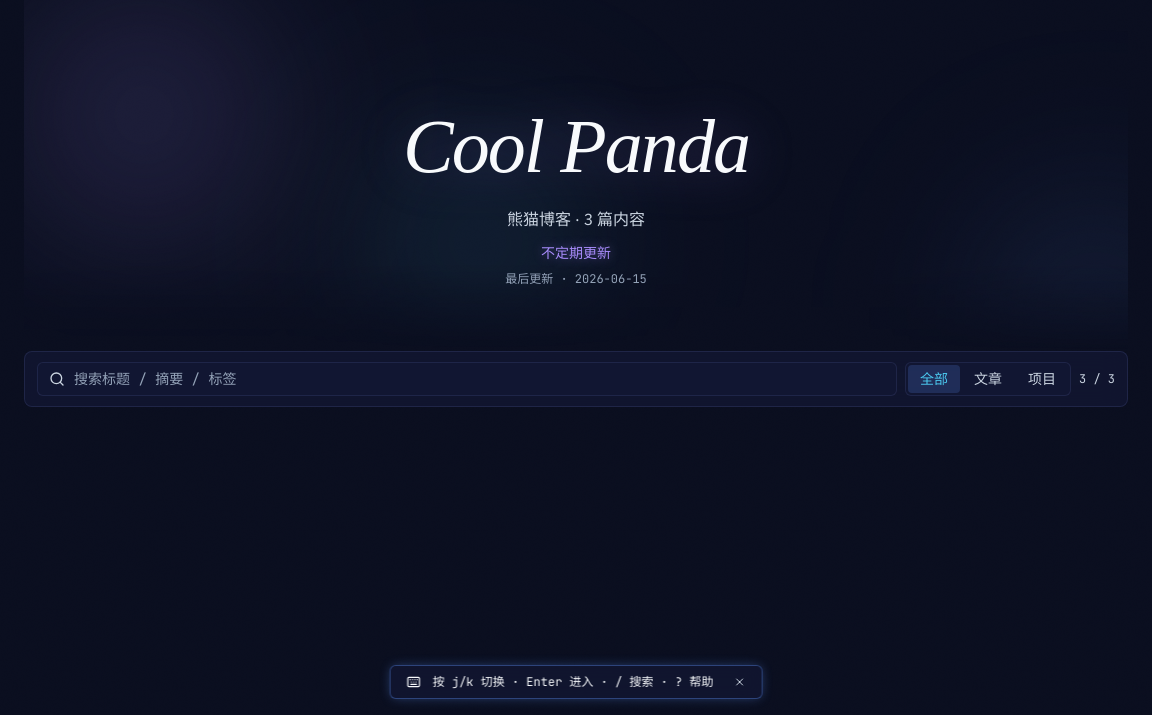
Test: Home 搜索过滤（与分类正交） › 过滤到 0 → 清空 → 焦点自动回到第一张卡片（08-17 F4）
The width and height of the screenshot is (1152, 715).
Type "xyz不存在" into the search field with placeholder "搜索标题 / 摘要 / 标签" at coordinates (467, 379), box [37, 362, 897, 396]
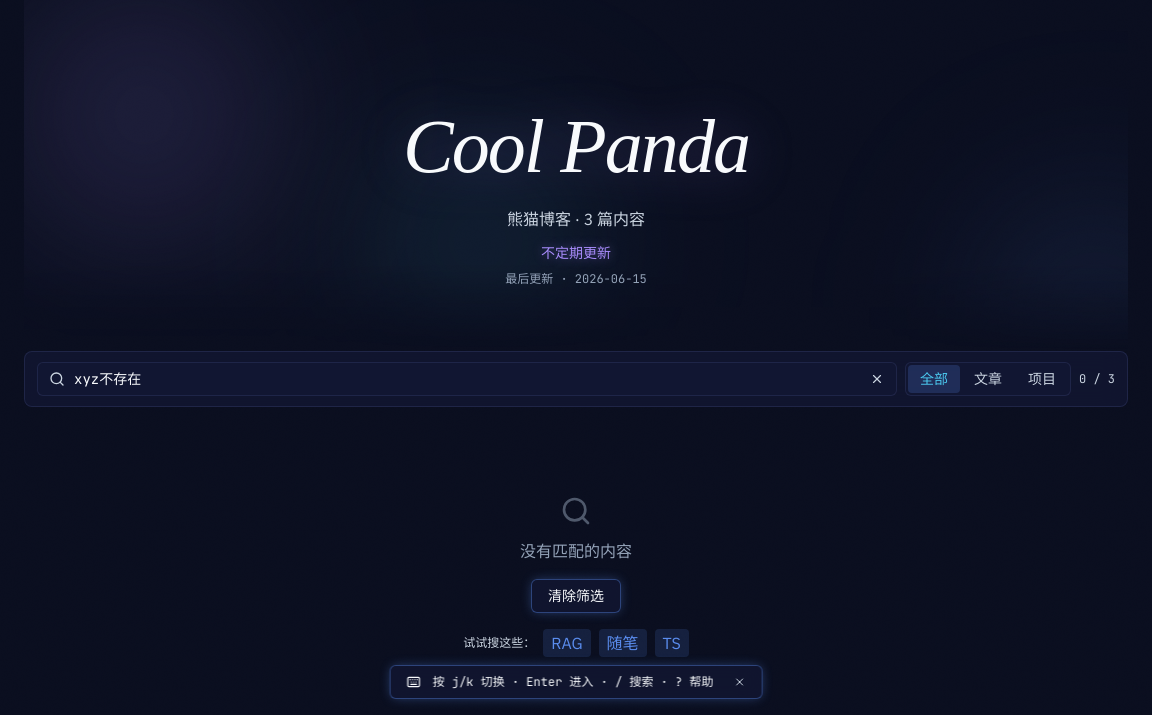
Clear the search field named "搜索内容" at coordinates (467, 379), box [37, 362, 897, 396]
(page scrolled)
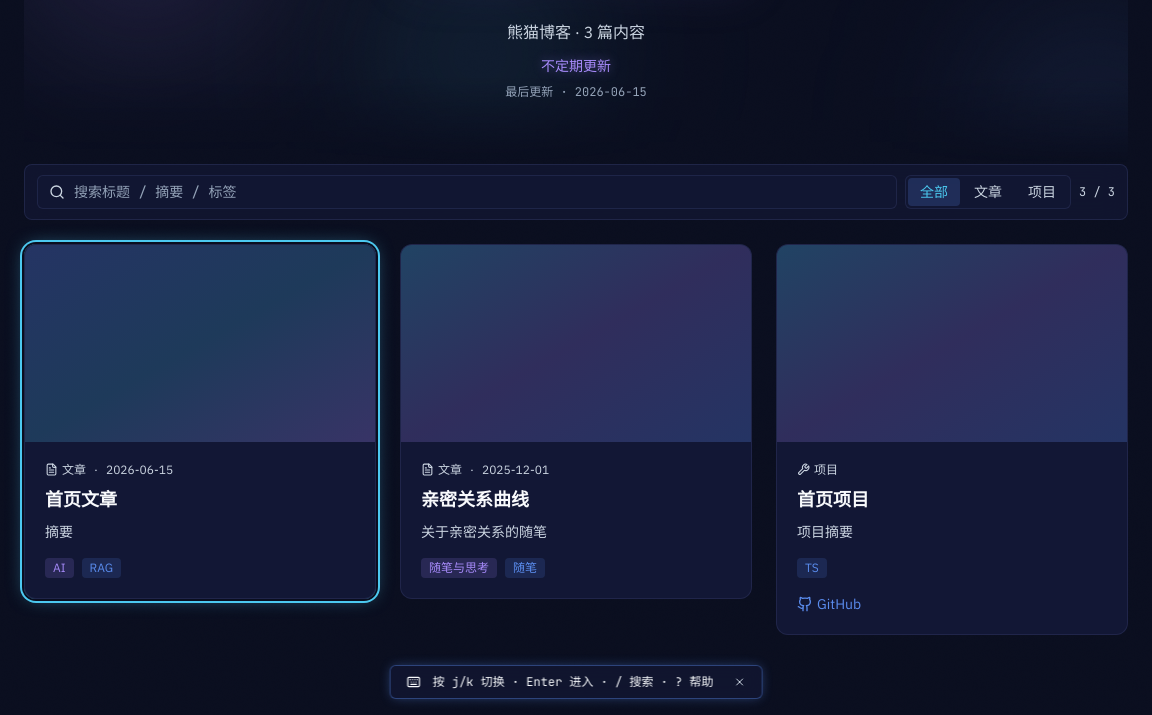
Check: the link "文章 · 2026-06-15 首页文章 摘要 AI RAG" is shown, box [24, 244, 376, 599]
